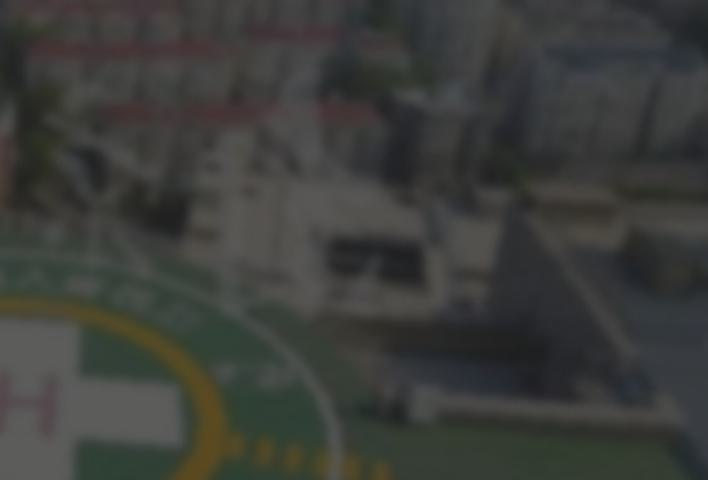Apron: (1, 281, 237, 480)
